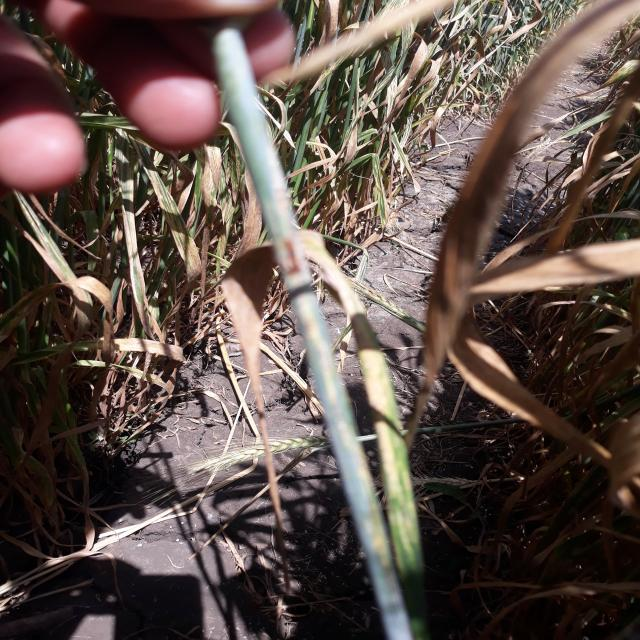black_stem_rust: (192, 15, 440, 639)
